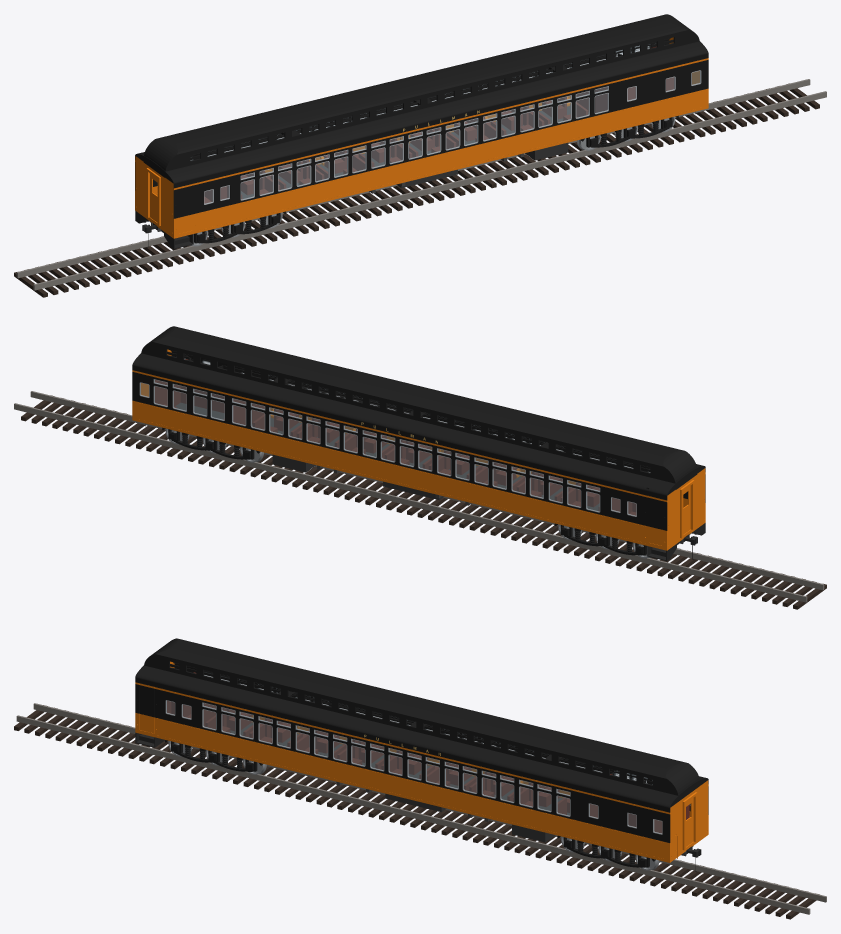
The model's file is MR1927_Sleeper1011.glb.
The picture shows the model from 3 angles, top to bottom: view 1: azimuth 30°, elevation 25°; view 2: azimuth 150°, elevation 25°; view 3: azimuth 330°, elevation 25°; orthographic projection.
Visible parts, largest first — view 1: roof, orange, maroon, ties, rails, glass, interior, rims, trucks, equipment, floor, wheels; view 2: roof, orange, maroon, ties, glass, rails, interior, rims, trucks, floor, equipment, wheels; view 3: roof, orange, maroon, ties, rails, glass, interior, rims, trucks, equipment, wheels, floor.
Part boxes in pixels (x1,y1,x2,y2): roof: [135, 14, 708, 183]; orange: [135, 37, 708, 238]; maroon: [135, 39, 708, 218]; ties: [14, 83, 819, 297]; rails: [16, 79, 826, 290]; glass: [191, 43, 700, 203]; interior: [204, 46, 674, 203]; rims: [191, 45, 701, 204]; trucks: [194, 115, 678, 243]; equipment: [396, 142, 568, 188]; floor: [150, 104, 588, 231]; wheels: [189, 116, 675, 246]; roof: [132, 326, 705, 495]; orange: [132, 349, 705, 550]; maroon: [132, 351, 705, 530]; ties: [21, 395, 826, 609]; glass: [140, 360, 649, 515]; rails: [14, 391, 824, 602]; interior: [155, 359, 636, 515]; rims: [139, 361, 648, 516]; trucks: [162, 427, 646, 555]; floor: [175, 403, 690, 543]; equipment: [272, 454, 444, 500]; wheels: [165, 428, 650, 558]; roof: [135, 638, 708, 807]; orange: [135, 661, 708, 862]; maroon: [135, 663, 708, 842]; ties: [14, 705, 819, 919]; rails: [16, 703, 826, 914]; glass: [166, 672, 690, 833]; interior: [167, 672, 689, 833]; rims: [165, 675, 662, 834]; trucks: [165, 740, 655, 867]; equipment: [385, 793, 555, 842]; wheels: [168, 741, 659, 870]; floor: [230, 722, 693, 856].
Bounding box in the file's own units: 1.23 × 0.1609 × 0.1047.
